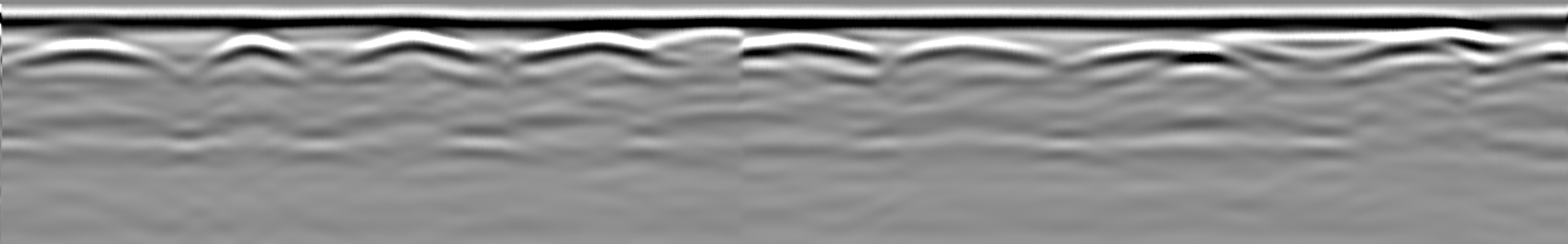steel: (1346, 35, 1551, 72), (10, 31, 178, 75), (344, 27, 500, 71), (1080, 35, 1256, 74), (513, 31, 677, 71), (900, 32, 1055, 71), (738, 29, 883, 70), (195, 30, 306, 71)
